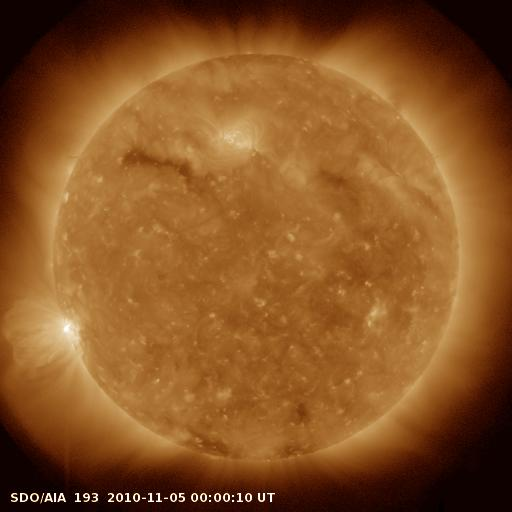coronal_hole: (117, 140, 197, 185)
